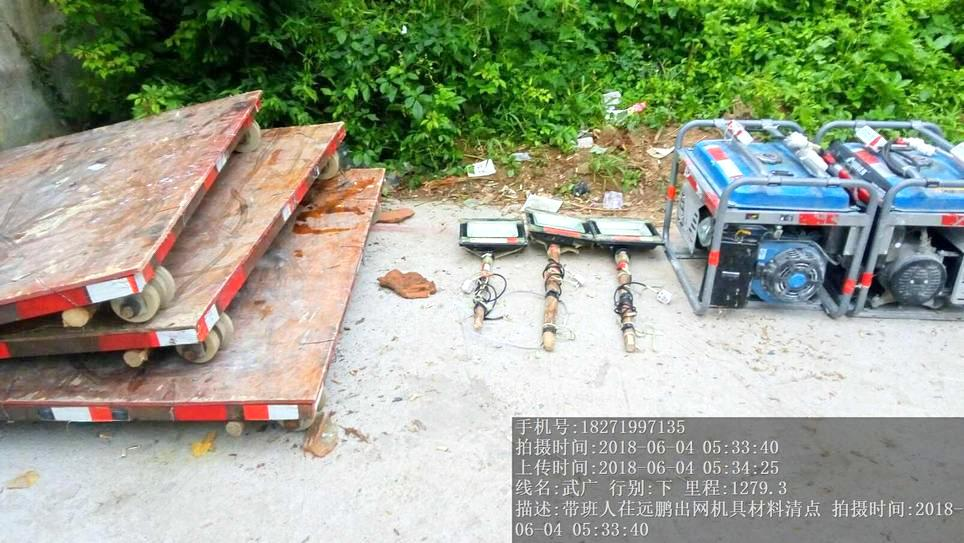DJ: (667, 106, 861, 325), (862, 109, 964, 331)
